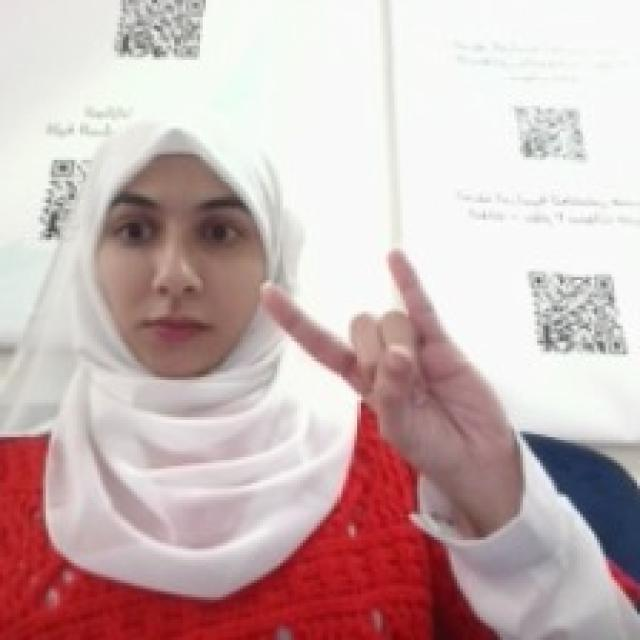No: (255, 240, 514, 466)
